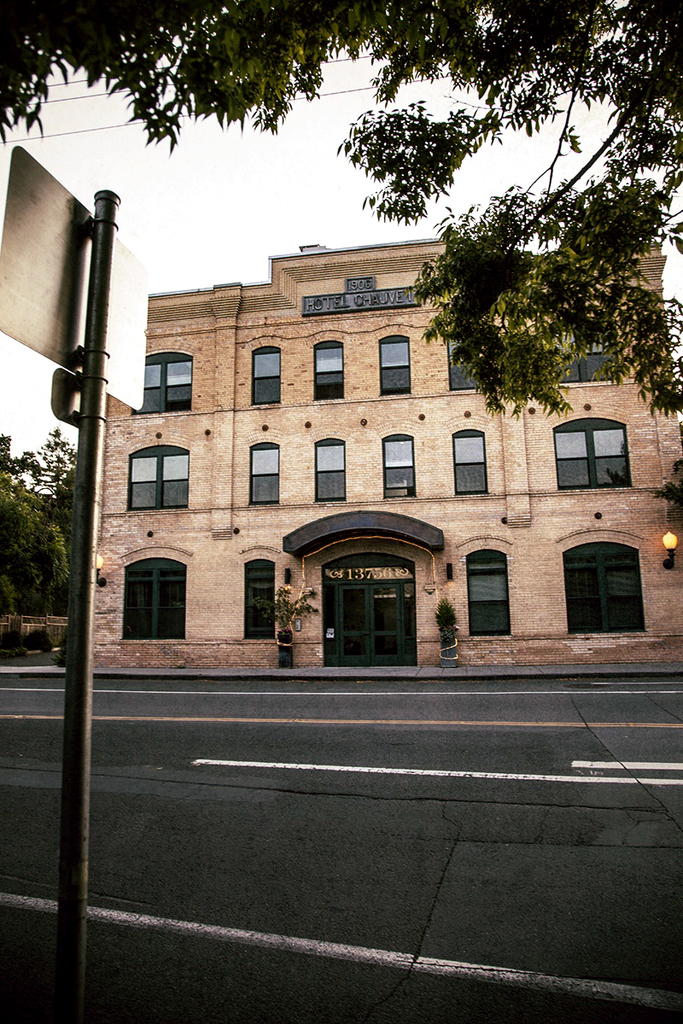Tree: (0, 0, 682, 413)
